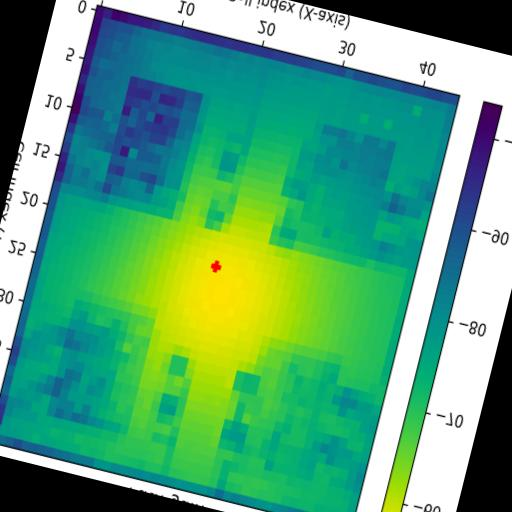Concrete: (238, 349, 342, 492)
Glass: (45, 297, 156, 437)
Metal: (285, 122, 398, 269)
Wood: (102, 76, 204, 210)
